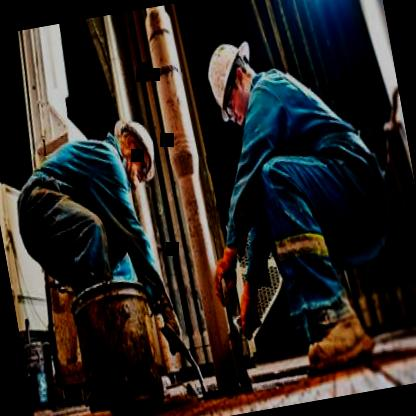helmet: (197, 31, 267, 132), (110, 114, 160, 192)
